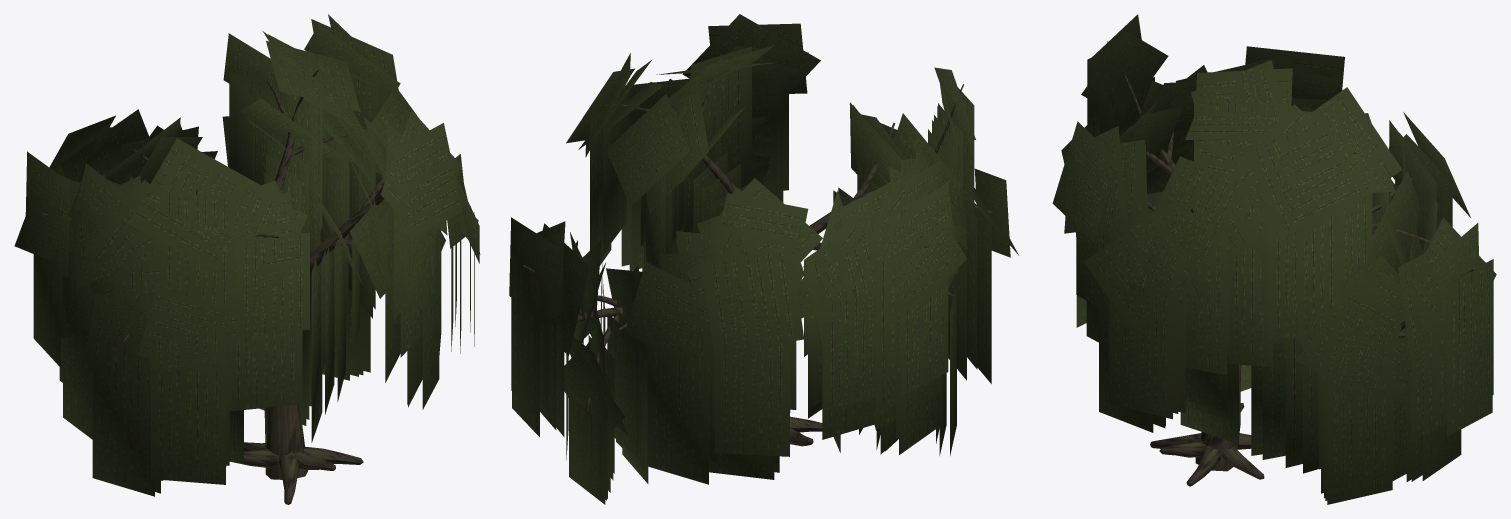
The model's file is MarshWillow_1_LOD1.gltf.
The picture shows the model from 3 angles, left to right: view 1: azimuth 30°, elevation 25°; view 2: azimuth 150°, elevation 25°; view 3: azimuth 270°, elevation 25°; orthographic projection. The views are drawn at different scales.
Parts seen in each view (by area): view 1: MarshWillow_1_LOD1; view 2: MarshWillow_1_LOD1; view 3: MarshWillow_1_LOD1.
Boxes of the visible parts, x1,y1,x2,y2 form: MarshWillow_1_LOD1: (14,14,480,504); MarshWillow_1_LOD1: (509,14,1018,504); MarshWillow_1_LOD1: (1052,14,1496,504).
Size of the model in its own units: 10.56 by 10.97 by 10.89.
Materials: 2 (2 with a texture image).
